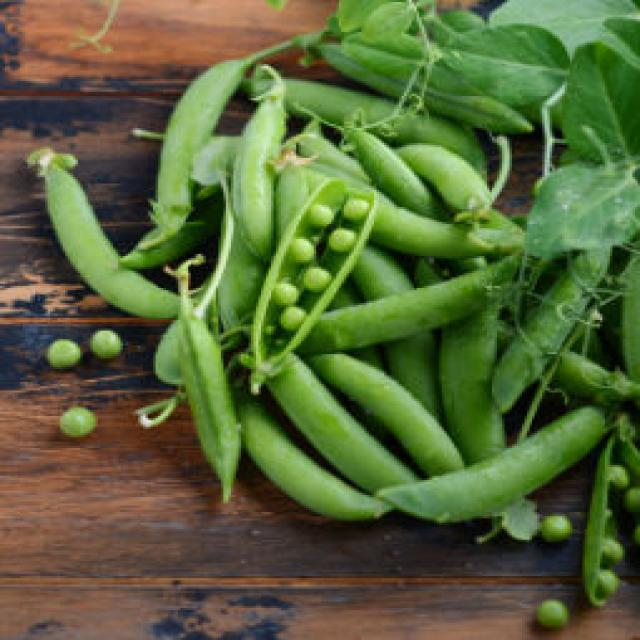Peas: (28, 140, 188, 314), (248, 182, 376, 392), (380, 408, 611, 522), (290, 252, 531, 350), (148, 54, 251, 244), (170, 266, 243, 504), (585, 424, 635, 606), (44, 338, 84, 375), (58, 406, 98, 440), (536, 595, 568, 632), (92, 324, 126, 358), (58, 295, 60, 317)
